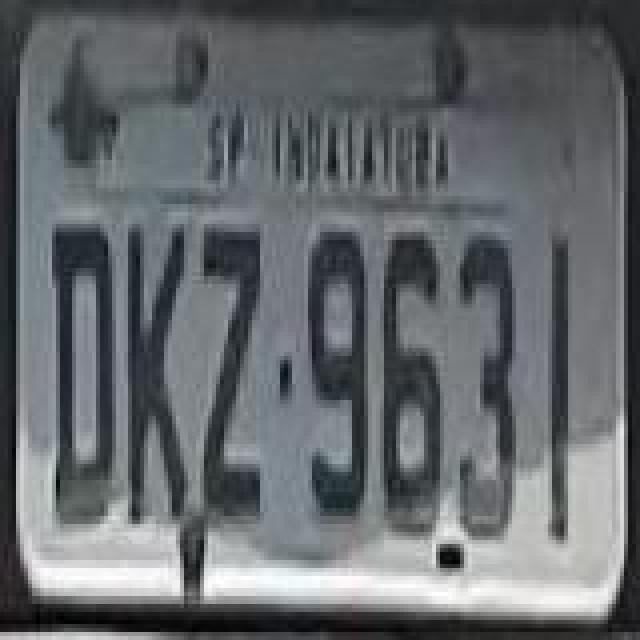1: (548, 228, 572, 540)
3: (456, 228, 520, 540)
6: (380, 230, 444, 538)
9: (304, 226, 368, 526)
D: (50, 220, 118, 532)
K: (128, 220, 192, 532)
Z: (200, 214, 264, 522)
